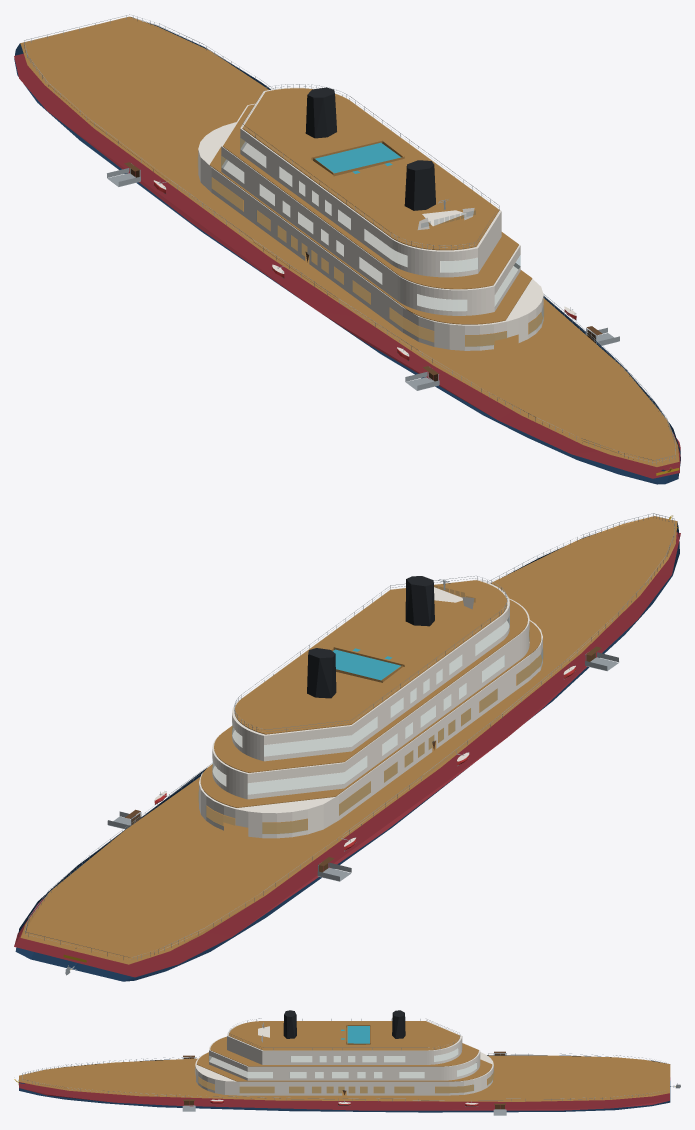
The model's file is 169-Crucero_exterior.glb.
3 renders of one model, top to bottom at view 1: azimuth 30°, elevation 25°; view 2: azimuth 150°, elevation 25°; view 3: azimuth 270°, elevation 25°, orthographic. The views are drawn at different scales.
Parts seen in each view (by area): view 1: SM_Crucero_Cubierta_1, SM_Crucero_Cubierta_4, SM_Crucero_Franja, SM_Crucero_Nivel_1, SM_Crucero_Nivel_2, SM_Crucero_Nivel_3, SM_Crucero_Cubierta_3, SM_Crucero_Casco, SM_Crucero_Cubierta_2, SM_Crucero_Ventanas_1, SM_Crucero_Baranda_Cub1, SM_Crucero_Ventanas_2 (+5 smaller); view 2: SM_Crucero_Cubierta_1, SM_Crucero_Cubierta_4, SM_Crucero_Franja, SM_Crucero_Nivel_2, SM_Crucero_Nivel_3, SM_Crucero_Nivel_1, SM_Crucero_Cubierta_3, SM_Crucero_Casco, SM_Crucero_Cubierta_2, SM_Crucero_Ventanas_2, SM_Crucero_Ventanas_1, SM_Crucero_Ventanas_3 (+5 smaller); view 3: SM_Crucero_Cubierta_1, SM_Crucero_Franja, SM_Crucero_Cubierta_4, SM_Crucero_Nivel_2, SM_Crucero_Nivel_1, SM_Crucero_Nivel_3, SM_Crucero_Casco, SM_Crucero_Cubierta_3, SM_Crucero_Cubierta_2, SM_Crucero_Ventanas_1, SM_Crucero_Ventanas_2, SM_Crucero_Baranda_Cub1 (+5 smaller).
Boxes of the visible parts, x1,y1,x2,y2 form: SM_Crucero_Cubierta_1: (20, 16, 679, 466); SM_Crucero_Cubierta_4: (242, 88, 499, 250); SM_Crucero_Franja: (14, 53, 680, 478); SM_Crucero_Nivel_1: (198, 122, 543, 350); SM_Crucero_Nivel_2: (221, 103, 520, 315); SM_Crucero_Nivel_3: (240, 87, 501, 277); SM_Crucero_Cubierta_3: (222, 104, 518, 289); SM_Crucero_Casco: (14, 22, 680, 484); SM_Crucero_Cubierta_2: (210, 147, 532, 324); SM_Crucero_Ventanas_1: (212, 178, 543, 346); SM_Crucero_Baranda_Cub1: (24, 14, 675, 464); SM_Crucero_Ventanas_2: (221, 156, 520, 310); SM_Crucero_Cubierta_1: (20, 516, 677, 964); SM_Crucero_Cubierta_4: (235, 580, 507, 734); SM_Crucero_Franja: (14, 532, 680, 977); SM_Crucero_Nivel_2: (212, 598, 529, 799); SM_Crucero_Nivel_3: (232, 579, 509, 761); SM_Crucero_Nivel_1: (199, 620, 542, 838); SM_Crucero_Cubierta_3: (214, 599, 527, 772); SM_Crucero_Casco: (15, 522, 679, 981); SM_Crucero_Cubierta_2: (200, 621, 541, 807); SM_Crucero_Ventanas_2: (212, 631, 529, 794); SM_Crucero_Ventanas_1: (198, 651, 542, 833); SM_Crucero_Ventanas_3: (232, 618, 508, 755); SM_Crucero_Cubierta_1: (19, 1055, 670, 1101); SM_Crucero_Franja: (19, 1077, 670, 1110); SM_Crucero_Cubierta_4: (228, 1021, 459, 1050); SM_Crucero_Nivel_2: (209, 1036, 480, 1080); SM_Crucero_Nivel_1: (195, 1052, 493, 1095); SM_Crucero_Nivel_3: (227, 1021, 462, 1064); SM_Crucero_Casco: (19, 1055, 670, 1112); SM_Crucero_Cubierta_3: (210, 1036, 478, 1066); SM_Crucero_Cubierta_2: (196, 1052, 492, 1081); SM_Crucero_Ventanas_1: (198, 1074, 493, 1092); SM_Crucero_Ventanas_2: (209, 1056, 476, 1077); SM_Crucero_Baranda_Cub1: (22, 1053, 664, 1101).
Bounding box in the file's own units: 52.18 × 29.42 × 236.
